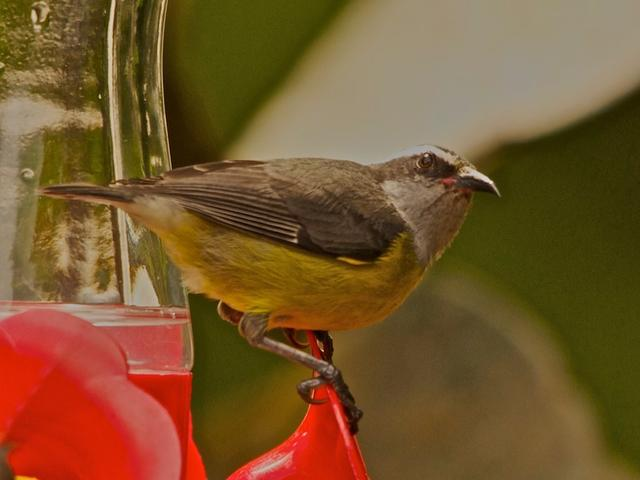bird: (38, 78, 541, 403)
